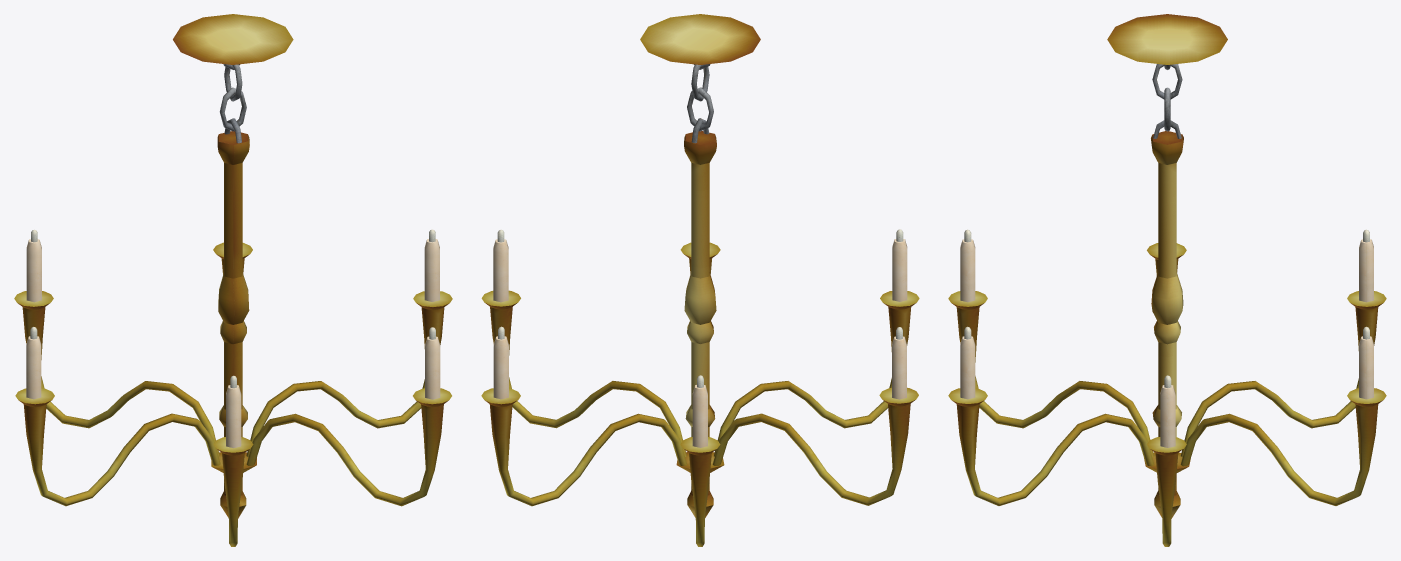
File: chandelier.obj
3 renders of one model, left to right at view 1: azimuth 30°, elevation 25°; view 2: azimuth 150°, elevation 25°; view 3: azimuth 270°, elevation 25°, orthographic.
Parts seen in each view (by area): view 1: mesh; view 2: mesh; view 3: mesh.
Part boxes in pixels (x1,y1,x2,y2): mesh: (14,14,452,546); mesh: (481,14,919,546); mesh: (948,14,1386,546).
Bounding box in the file's own units: 79.25 × 85.31 × 69.69.
1 material, 1 textured.
